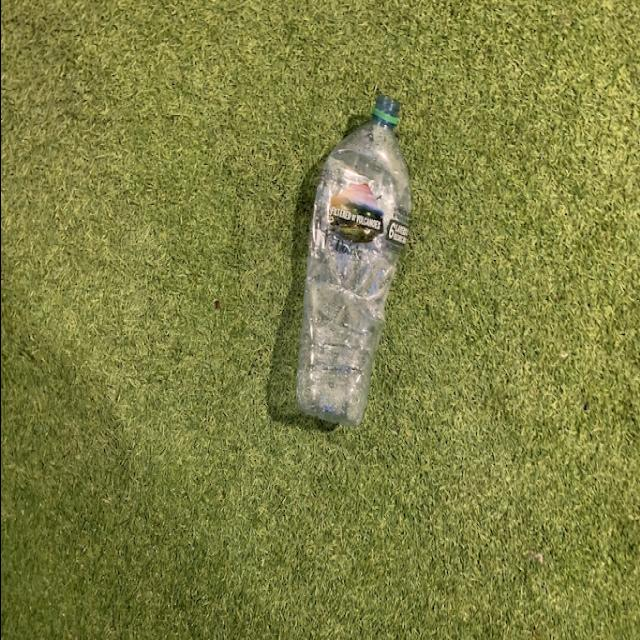PET: (294, 96, 409, 428)
